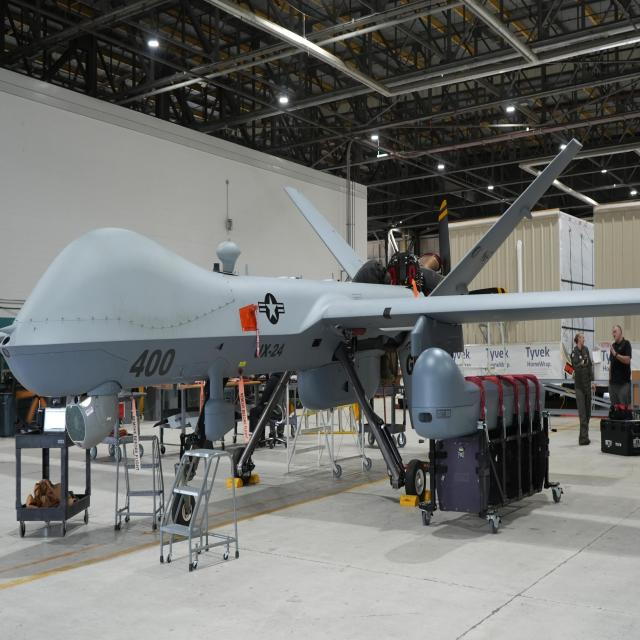MQ9: (3, 92, 640, 474)
